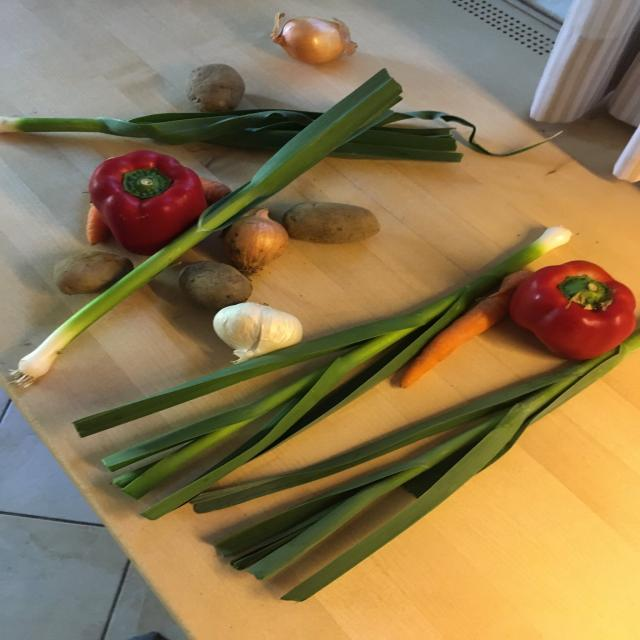carrot: (392, 268, 537, 391)
garlic: (209, 297, 306, 364)
leek: (69, 221, 581, 517), (0, 63, 402, 391), (212, 325, 640, 596), (0, 104, 470, 169)
onion: (264, 8, 360, 72), (214, 209, 298, 280)
pepper: (502, 254, 636, 364), (88, 146, 213, 255)
potato: (278, 193, 386, 244), (168, 254, 248, 313), (48, 242, 130, 296), (183, 60, 252, 119)
